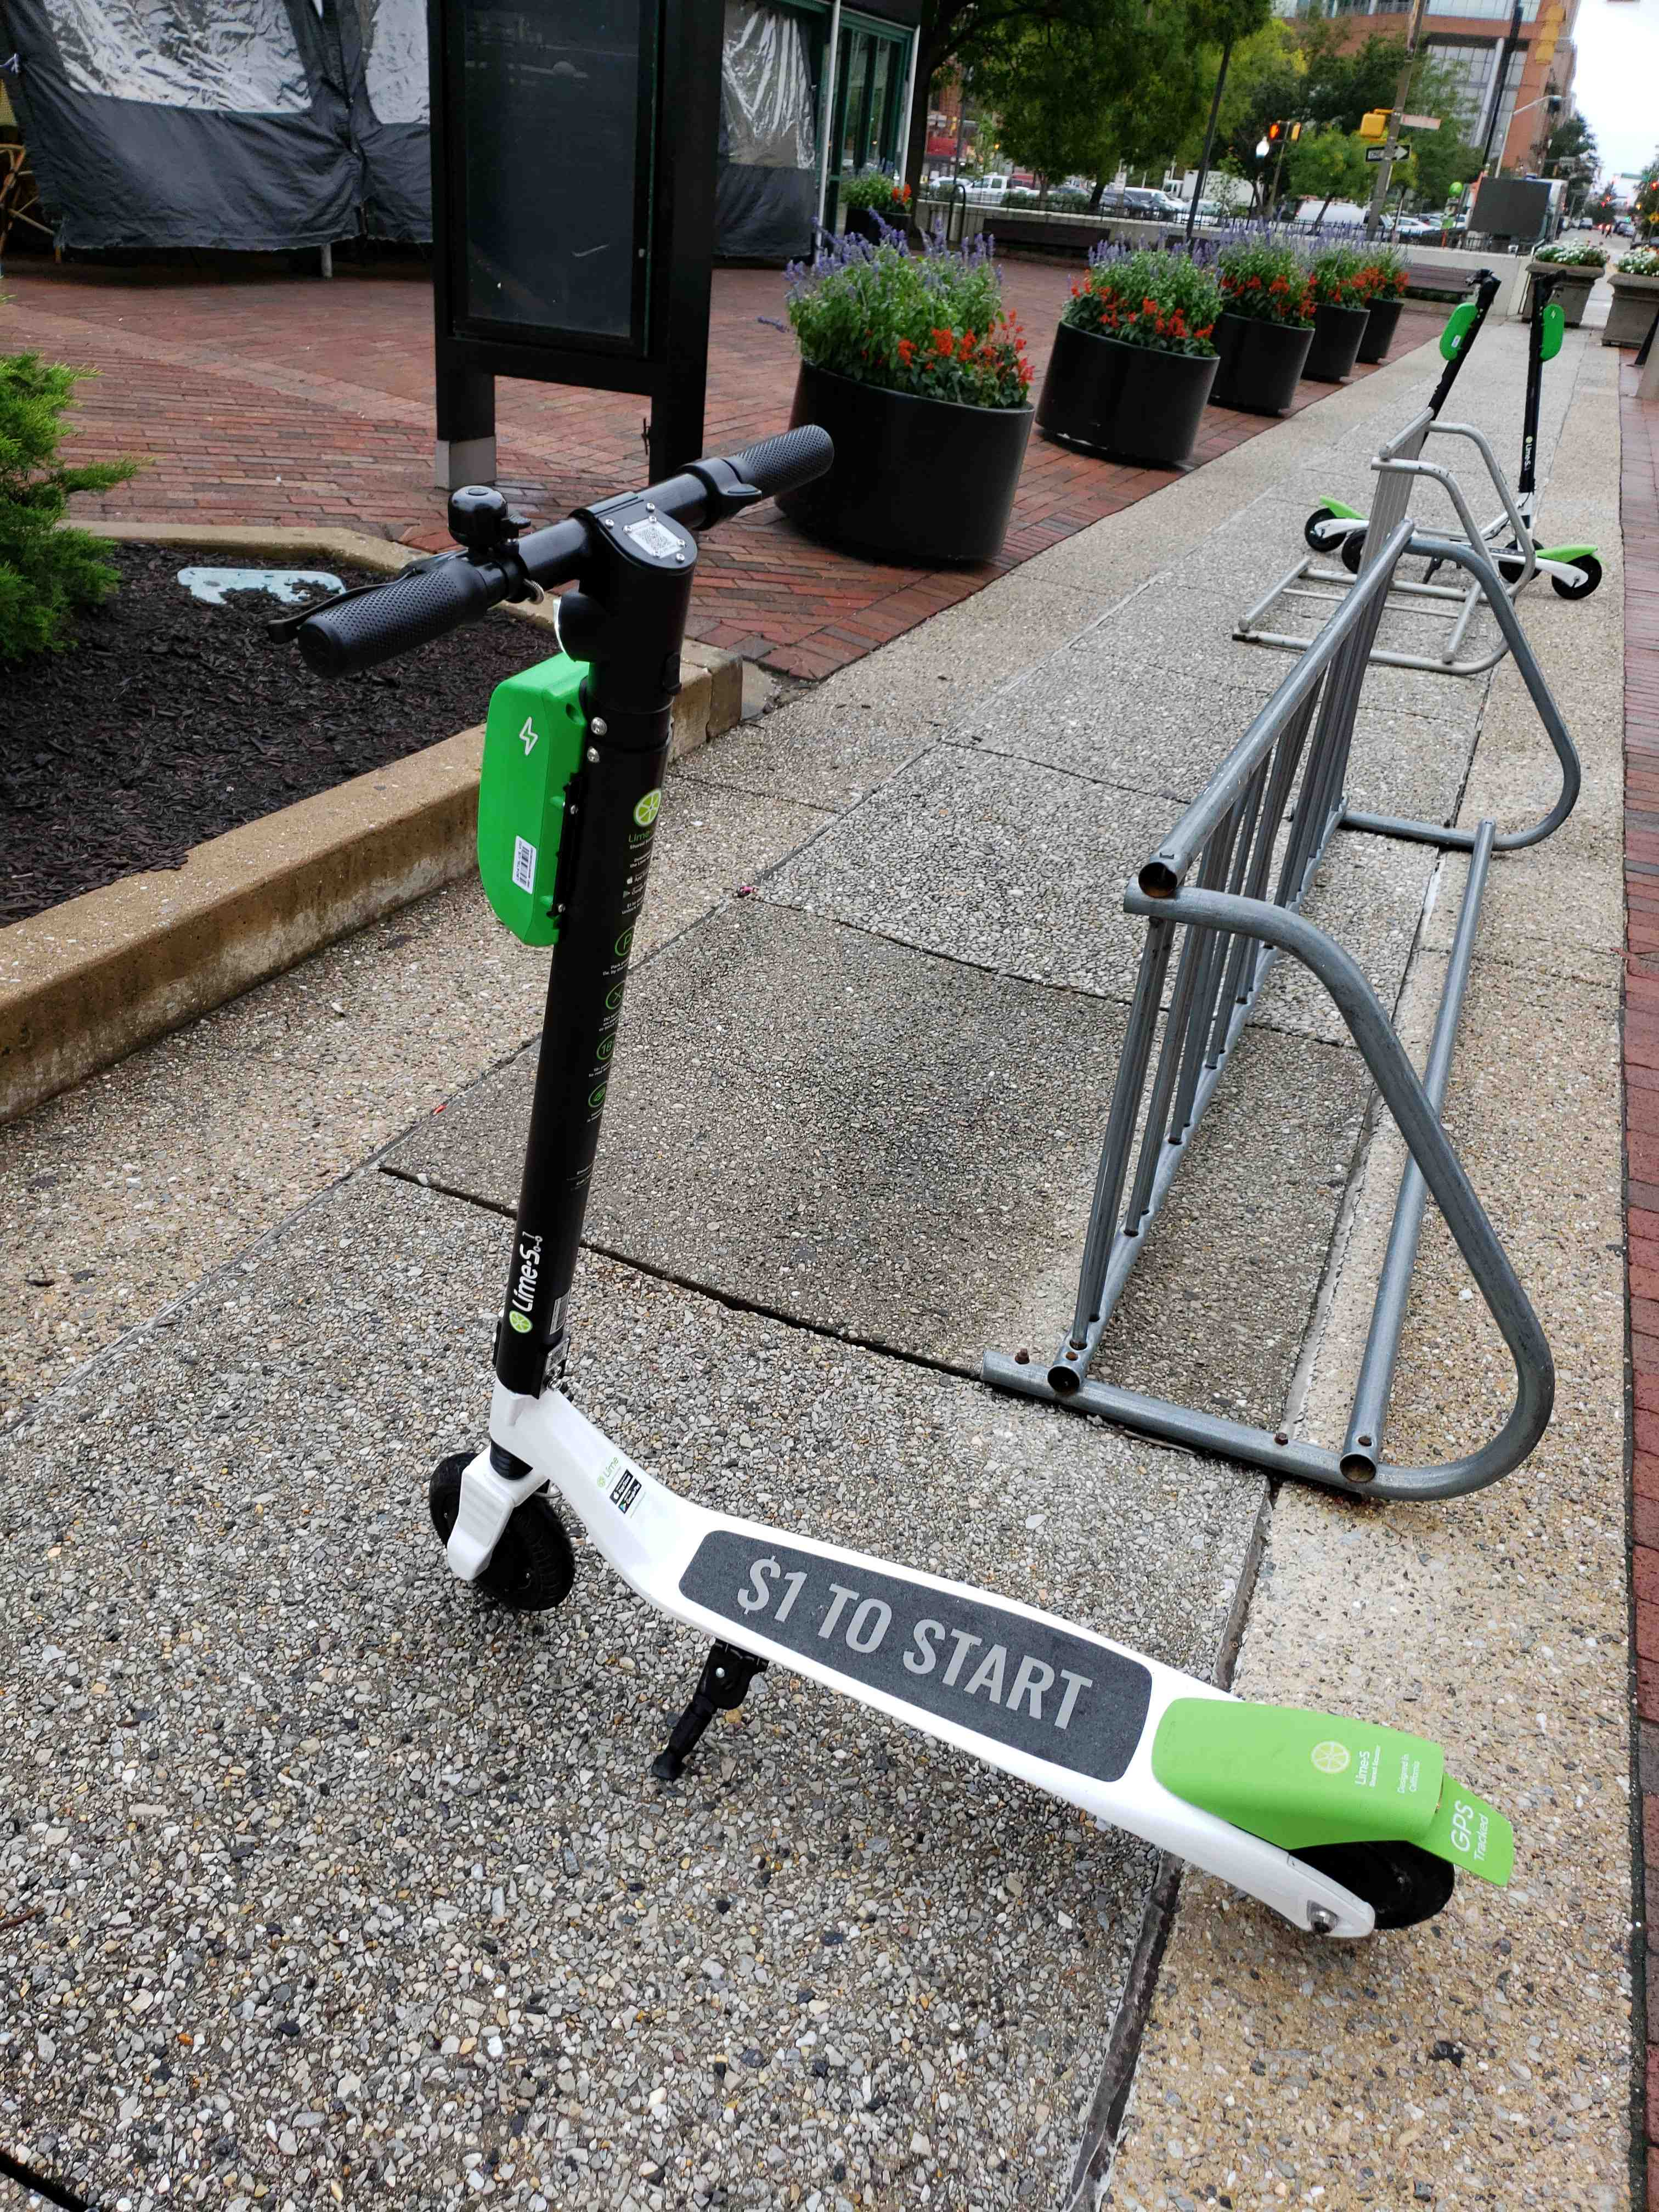scooter: (293, 415, 1527, 1961)
